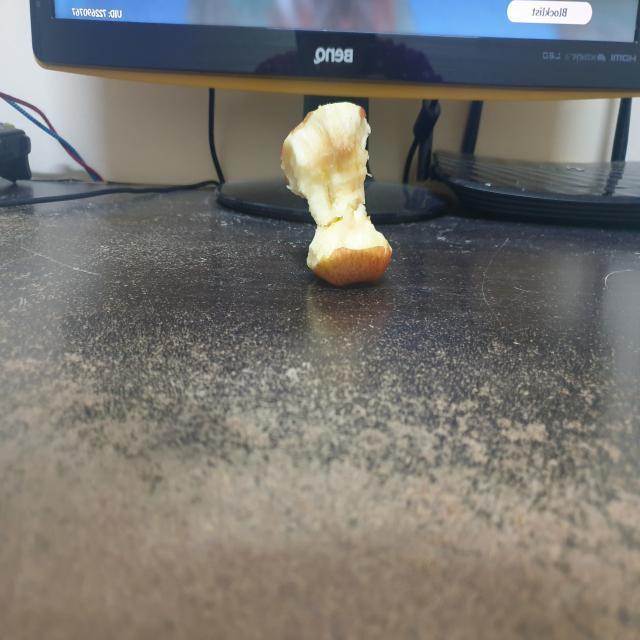apple: (274, 89, 398, 298)
